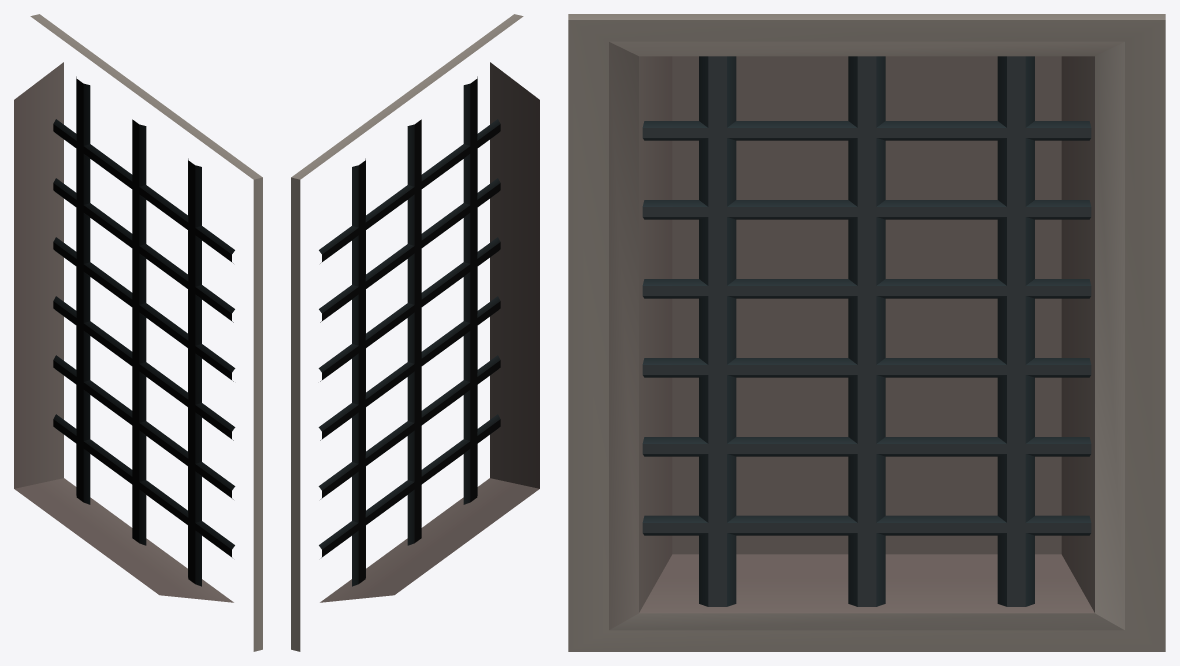
The model's file is Grate.glb.
3 views of the same model, side by side, from view 1: azimuth 30°, elevation 25°; view 2: azimuth 150°, elevation 25°; view 3: azimuth 270°, elevation 25° (orthographic). The views are drawn at different scales.
Parts seen in each view (by area): view 1: floor_tile_grate; view 2: floor_tile_grate; view 3: floor_tile_grate.
Part boxes in pixels (left/top/right/bottom): floor_tile_grate: left=14, top=14, right=262, bottom=651; floor_tile_grate: left=291, top=14, right=539, bottom=651; floor_tile_grate: left=568, top=14, right=1165, bottom=651.
Size of the model in its own units: 0.2 by 1.4 by 1.2.
Materials: 1 (1 with a texture image).
